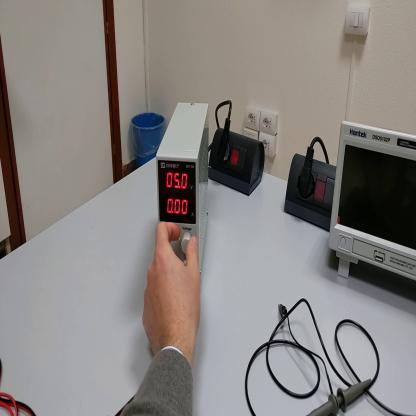hand: (143, 223, 202, 357)
oscilloscope: (327, 115, 416, 298)
oscilloscope probe tip: (303, 370, 375, 416)
power supply: (156, 102, 211, 291)
socket: (282, 145, 338, 233), (210, 129, 267, 199)
